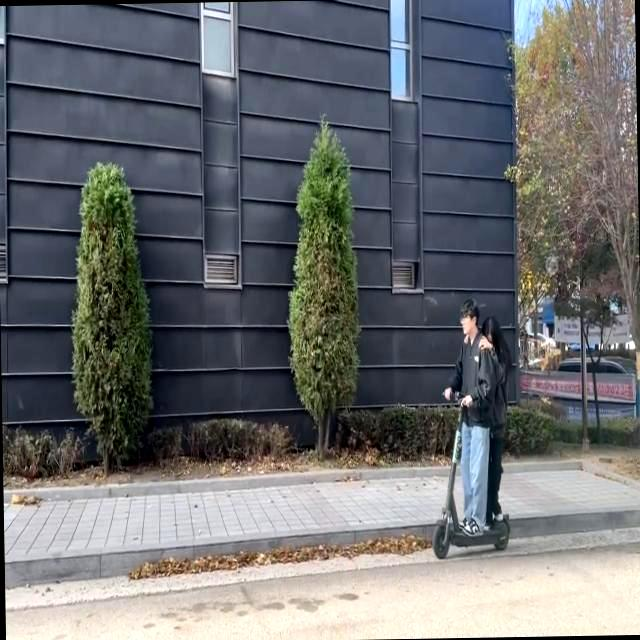bare_head: (478, 312, 513, 354), (450, 296, 481, 340)
human: (447, 300, 489, 536), (474, 309, 515, 534)
kickboard: (421, 508, 524, 567)
